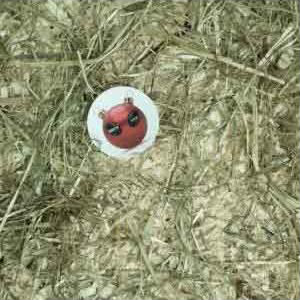badge: (85, 84, 161, 160)
